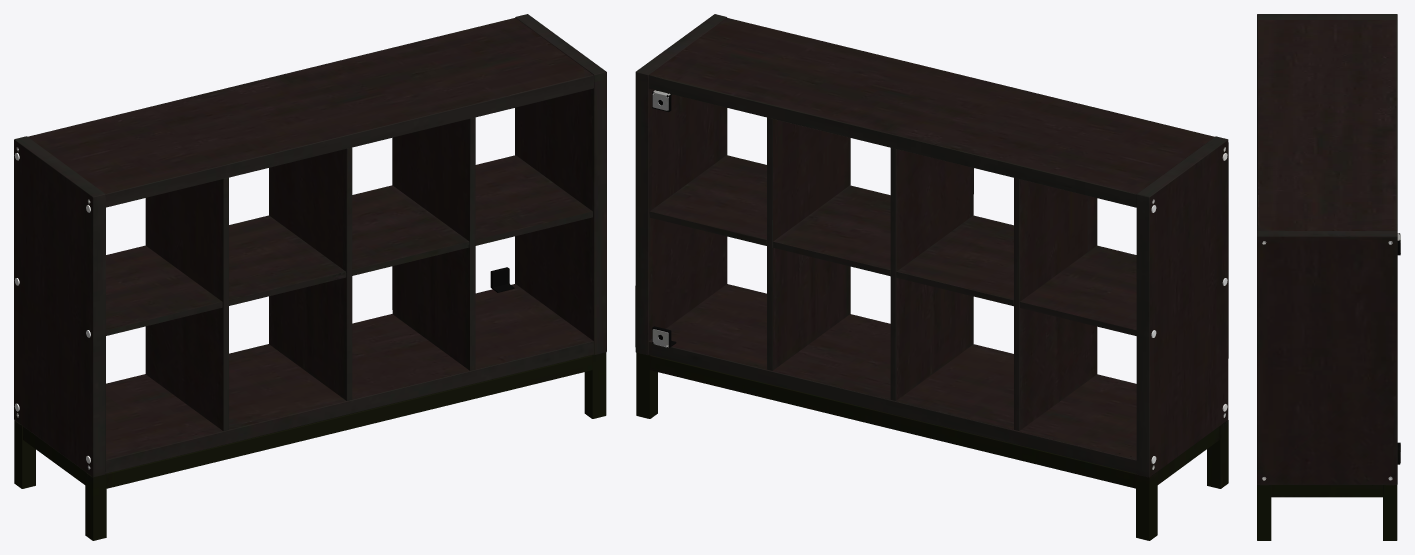
The model's file is 45 - KALLAX - 層架組合附底架, 黑棕色黑色, 147x94 公分 IKEA 線上購物.glb.
3 renders of one model, left to right at view 1: azimuth 30°, elevation 25°; view 2: azimuth 150°, elevation 25°; view 3: azimuth 270°, elevation 25°, orthographic. The views are drawn at different scales.
Parts seen in each view (by area): view 1: model; view 2: model; view 3: model.
Boxes of the visible parts, x1=… form: model: x1=14, y1=14, x2=606, y2=540; model: x1=635, y1=14, x2=1228, y2=540; model: x1=1257, y1=14, x2=1400, y2=540.
Bounding box in the file's own units: 1.47 × 0.9415 × 0.401.
1 material, 1 textured.
